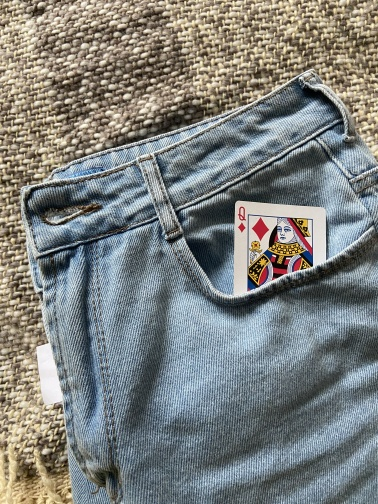queen: (230, 199, 331, 354)
